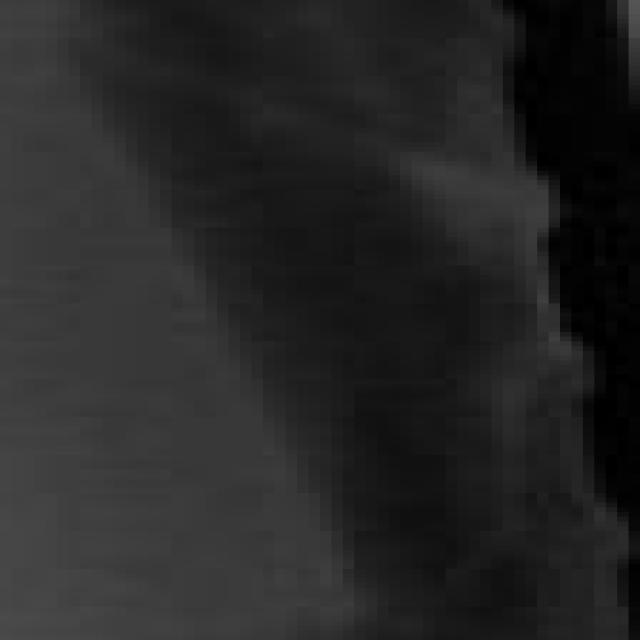fracture: (7, 0, 640, 640)
